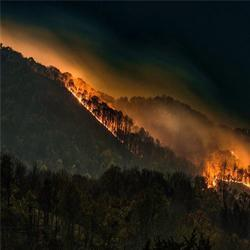fire: (206, 157, 242, 184), (72, 77, 95, 103)
